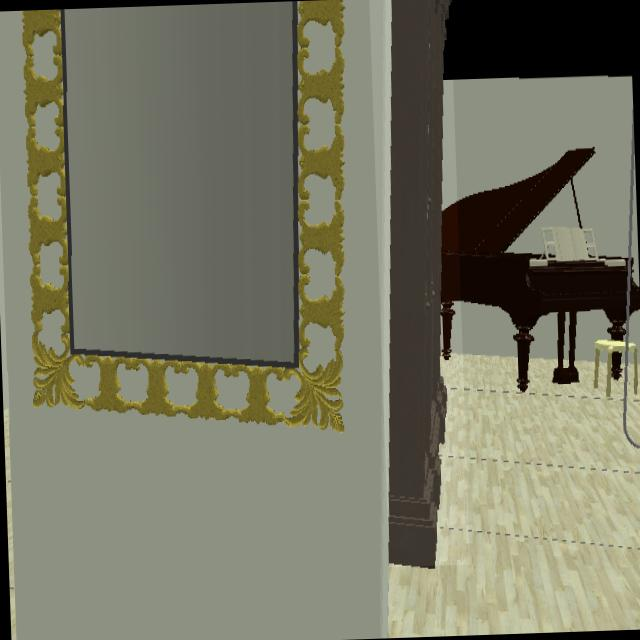bookshelf: (388, 0, 450, 565)
